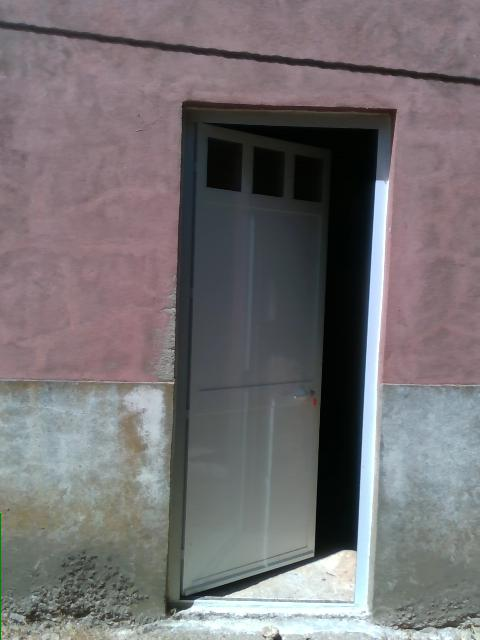semi_door: (163, 98, 397, 607)
